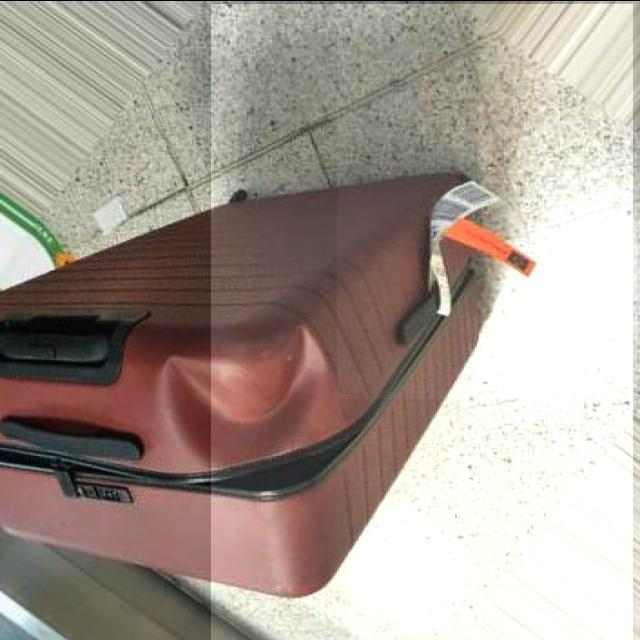Damage-bag: (145, 324, 369, 499)
